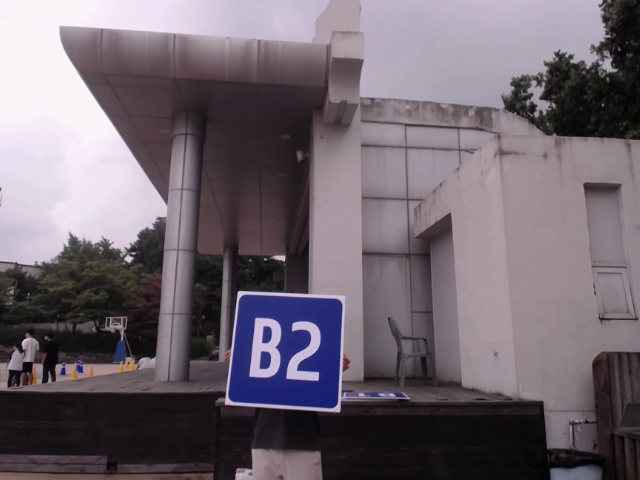delivery_b2: (226, 288, 343, 412)
